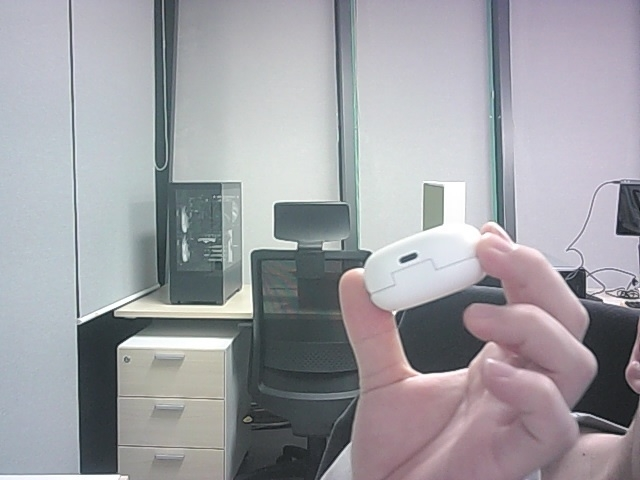case: (364, 223, 484, 311)
